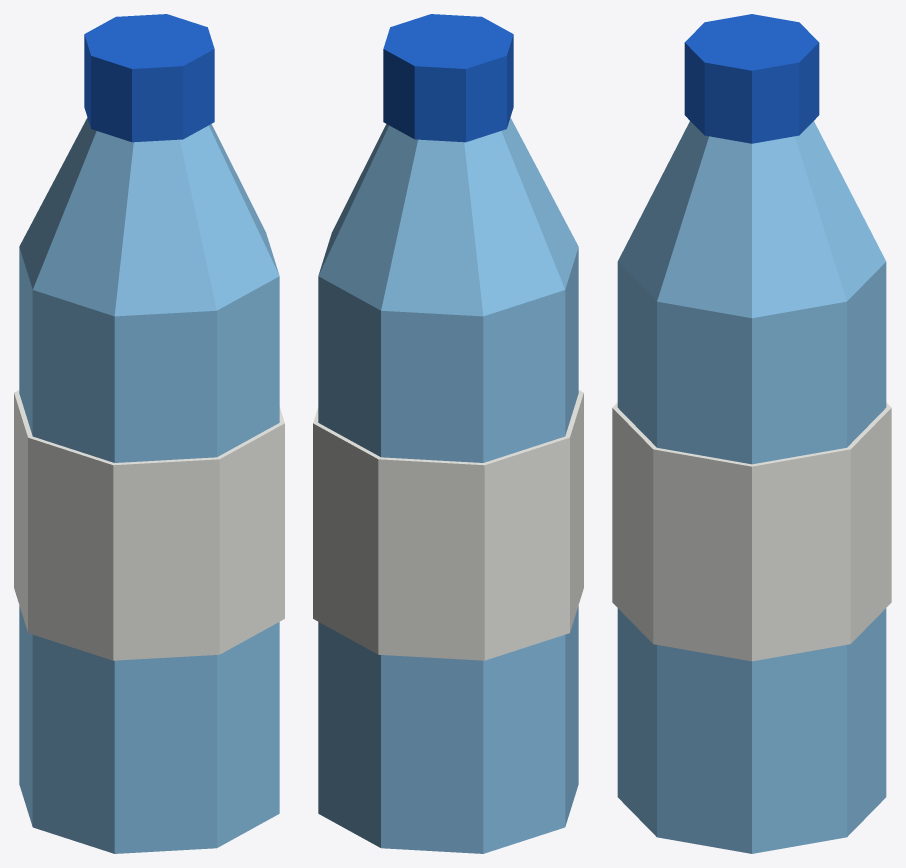
The model's file is Trash_PlasticBottle.fbx.
The picture shows the model from 3 angles, left to right: view 1: azimuth 30°, elevation 25°; view 2: azimuth 150°, elevation 25°; view 3: azimuth 270°, elevation 25°; orthographic projection.
Parts seen in each view (by area): view 1: Trash_PlasticBottle; view 2: Trash_PlasticBottle; view 3: Trash_PlasticBottle.
Part boxes in pixels (x1,y1,x2,y2): Trash_PlasticBottle: (14, 14, 284, 853); Trash_PlasticBottle: (313, 14, 583, 853); Trash_PlasticBottle: (612, 14, 891, 853).
Bounding box in the file's own units: 0.104 × 0.31 × 0.104.
